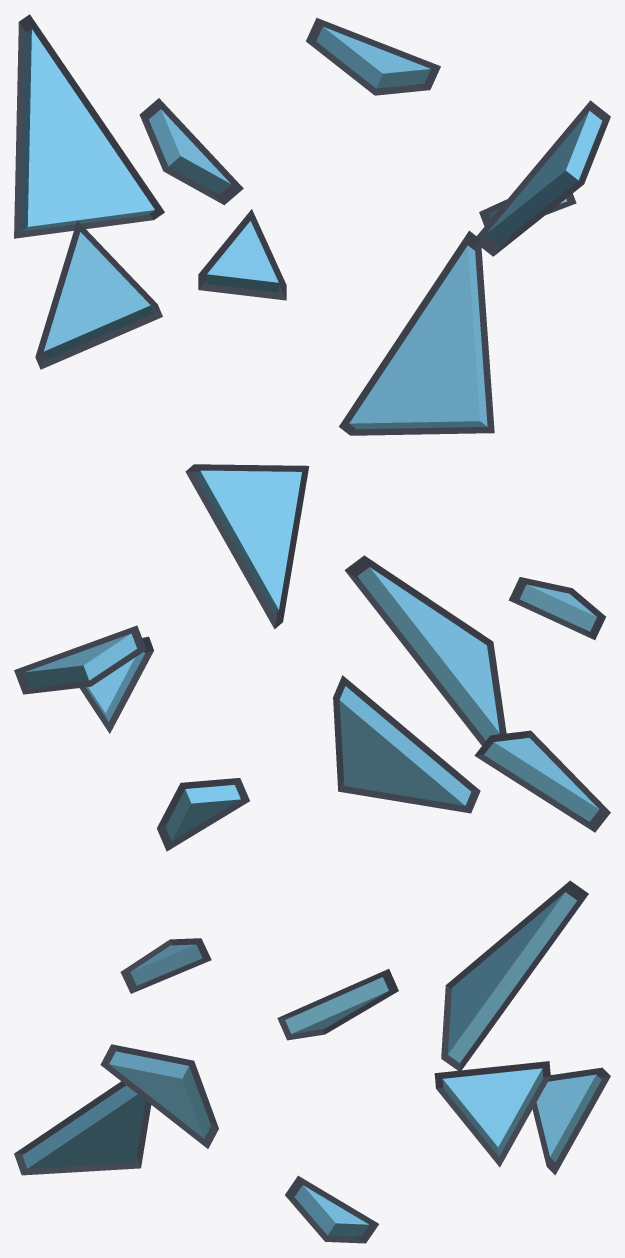
The model's file is balloon_pop_pieces.glb.
The picture shows the model from 3 angles, top to bottom: view 1: azimuth 30°, elevation 25°; view 2: azimuth 150°, elevation 25°; view 3: azimuth 270°, elevation 25°; orthographic projection. The views are drawn at different scales.
Parts seen in each view (by area): view 1: ink_outline (×7), piece_5, piece_2, piece_4, piece_1, piece_7, piece_3, piece_6; view 2: ink_outline (×8), piece_1, piece_2, piece_5, piece_4, piece_7, piece_6, piece_3, piece_0; view 3: ink_outline (×8), piece_5, piece_2, piece_7, piece_1, piece_6, piece_4, piece_0, piece_3.
Boxes of the visible parts, x1,y1,x2,y2 form: ink_outline (×7): [14, 14, 610, 435]; piece_5: [20, 29, 154, 231]; piece_2: [349, 245, 487, 429]; piece_4: [43, 232, 153, 359]; piece_1: [485, 111, 601, 244]; piece_7: [316, 27, 430, 88]; piece_3: [207, 221, 278, 292]; piece_6: [148, 109, 231, 194]; ink_outline (×8): [14, 464, 610, 851]; piece_1: [195, 470, 301, 614]; piece_2: [357, 567, 499, 740]; piece_5: [339, 686, 470, 805]; piece_4: [484, 738, 599, 821]; piece_7: [24, 633, 136, 687]; piece_6: [165, 785, 240, 840]; piece_3: [520, 584, 596, 631]; piece_0: [86, 652, 144, 721]; ink_outline (×8): [14, 880, 610, 1243]; piece_5: [448, 892, 577, 1062]; piece_2: [22, 1085, 145, 1168]; piece_7: [442, 1068, 543, 1156]; piece_1: [109, 1051, 210, 1138]; piece_6: [536, 1074, 601, 1162]; piece_4: [285, 977, 388, 1033]; piece_0: [294, 1185, 368, 1236]; piece_3: [130, 944, 202, 985].
Bounding box in the file's own units: 0.0754 × 0.0358 × 0.0777.
